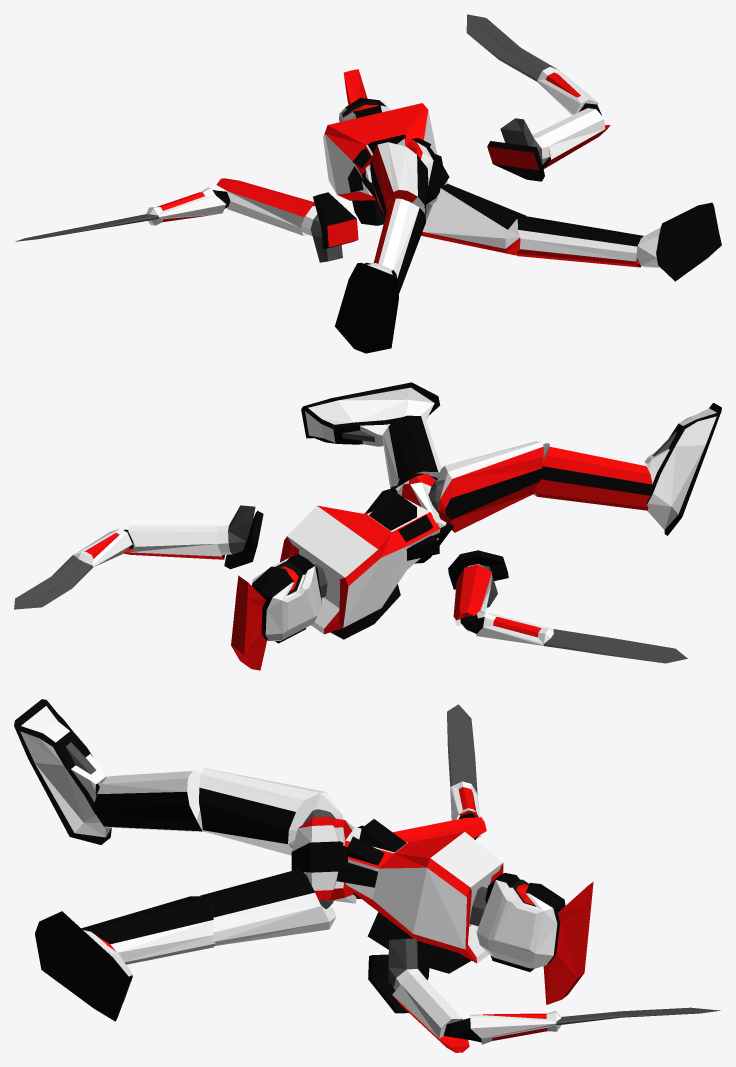
File: robots_000010.obj
3 renders of one model, top to bottom at view 1: azimuth 30°, elevation 25°; view 2: azimuth 150°, elevation 25°; view 3: azimuth 270°, elevation 25°, orthographic. The views are drawn at different scales.
Visible parts, largest first — view 1: Chest_plate_Cube.004, R_Forearm.002_Cube.033, R_Forearm.001_Cube.028, R_Thigh.002_Cube.027, R_Shin.002_Cube.029, R_Foot_Cube, R_Foot.002_Cube.035, R_Thigh_Cube.005, R_Shin_Cube.007, R_Arm.002_Cube.032, R_Arm.003_Cube.034, Pelvis_Cube.006 (+1 smaller); view 2: Chest_plate_Cube.004, Head_gladiator_Cube.024, R_Thigh_Cube.005, R_Forearm.001_Cube.028, R_Forearm.002_Cube.033, R_Shin_Cube.007, R_Foot.002_Cube.035, R_Foot_Cube, R_Shin.002_Cube.029, R_Arm.003_Cube.034, Pelvis_Cube.006, R_Arm.002_Cube.032; view 3: Chest_plate_Cube.004, Head_gladiator_Cube.024, R_Thigh_Cube.005, R_Foot_Cube, R_Thigh.002_Cube.027, R_Forearm.002_Cube.033, R_Foot.002_Cube.035, R_Shin_Cube.007, R_Shin.002_Cube.029, R_Forearm.001_Cube.028, Pelvis_Cube.006, R_Arm.003_Cube.034.
Boxes of the visible parts, bbox=[...] form: Chest_plate_Cube.004: bbox=[323, 103, 442, 225]; R_Forearm.002_Cube.033: bbox=[466, 14, 610, 168]; R_Forearm.001_Cube.028: bbox=[14, 178, 314, 241]; R_Thigh.002_Cube.027: bbox=[421, 184, 527, 255]; R_Shin.002_Cube.029: bbox=[516, 216, 643, 267]; R_Foot_Cube: bbox=[335, 262, 398, 353]; R_Foot.002_Cube.035: bbox=[636, 202, 721, 281]; R_Thigh_Cube.005: bbox=[370, 142, 428, 216]; R_Shin_Cube.007: bbox=[373, 198, 425, 294]; R_Arm.002_Cube.032: bbox=[300, 192, 358, 262]; R_Arm.003_Cube.034: bbox=[487, 118, 549, 181]; Pelvis_Cube.006: bbox=[360, 138, 449, 211]; Chest_plate_Cube.004: bbox=[280, 489, 440, 639]; Head_gladiator_Cube.024: bbox=[231, 554, 322, 670]; R_Thigh_Cube.005: bbox=[437, 441, 543, 532]; R_Forearm.001_Cube.028: bbox=[453, 564, 687, 663]; R_Forearm.002_Cube.033: bbox=[14, 525, 224, 609]; R_Shin_Cube.007: bbox=[533, 443, 652, 510]; R_Foot.002_Cube.035: bbox=[301, 382, 440, 446]; R_Foot_Cube: bbox=[644, 403, 721, 535]; R_Shin.002_Cube.029: bbox=[383, 415, 441, 488]; R_Arm.003_Cube.034: bbox=[217, 505, 263, 569]; Pelvis_Cube.006: bbox=[390, 473, 453, 563]; R_Arm.002_Cube.032: bbox=[448, 550, 508, 607]; Chest_plate_Cube.004: bbox=[336, 819, 503, 973]; Head_gladiator_Cube.024: bbox=[476, 872, 593, 1004]; R_Thigh_Cube.005: bbox=[199, 768, 343, 855]; R_Foot_Cube: bbox=[14, 699, 111, 844]; R_Thigh.002_Cube.027: bbox=[199, 869, 336, 945]; R_Forearm.002_Cube.033: bbox=[392, 975, 720, 1052]; R_Foot.002_Cube.035: bbox=[35, 911, 132, 1021]; R_Shin_Cube.007: bbox=[94, 770, 204, 831]; R_Shin.002_Cube.029: bbox=[81, 896, 215, 964]; R_Forearm.001_Cube.028: bbox=[393, 704, 486, 842]; Pelvis_Cube.006: bbox=[291, 817, 360, 903]; R_Arm.003_Cube.034: bbox=[368, 938, 429, 1013].
Size of the model in its own units: 4.02 by 1.03 by 3.81.
